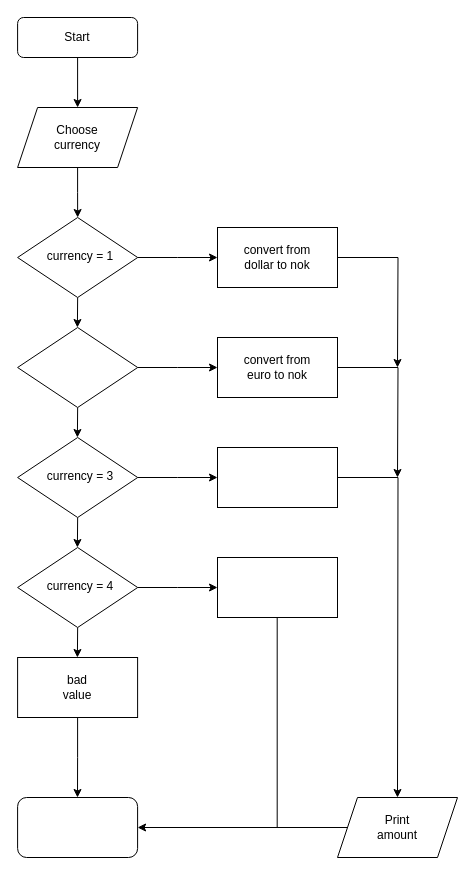
This 475x875 diagram has some shape labels left out. Here are the shapes that lost their labels. From the top down, the box of each, then its label:
(17, 326, 138, 408): currency = 2
(216, 446, 338, 508): convert from swedish crowns to nok
(216, 556, 338, 618): exit code
(17, 796, 138, 858): end
